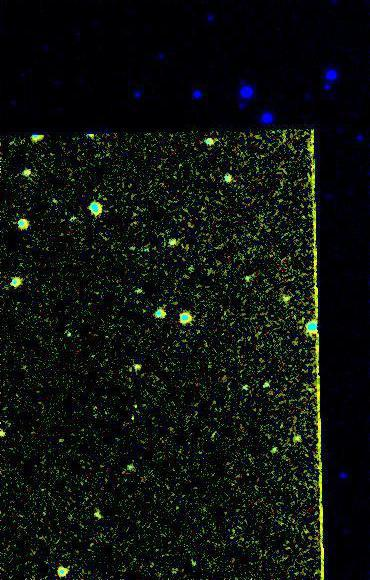star: (116, 399, 146, 429)
